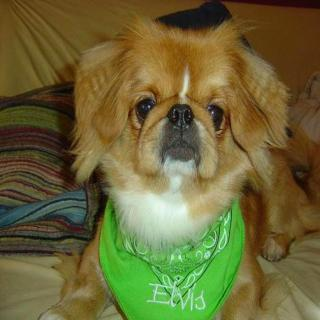dog: (78, 12, 279, 236)
nose: (164, 99, 195, 130)
